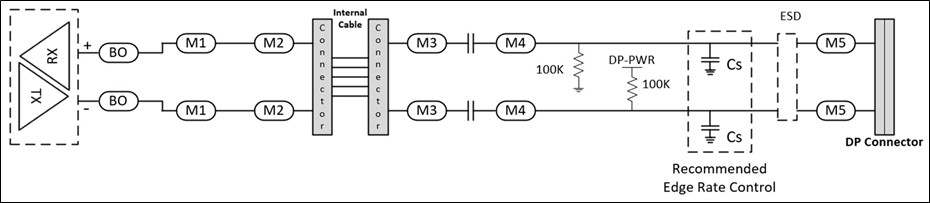capacitor: (460, 98, 480, 128), (463, 31, 480, 59)
dotted_rectangle: (8, 3, 80, 151), (685, 26, 757, 157), (772, 30, 800, 128)
ground: (698, 123, 721, 146), (702, 54, 718, 79), (574, 84, 587, 95)
oval: (97, 89, 140, 116), (176, 99, 218, 125), (252, 32, 295, 57), (253, 97, 295, 122), (815, 100, 858, 124), (100, 42, 140, 67), (818, 31, 855, 56), (177, 33, 219, 55), (407, 102, 449, 124), (405, 34, 447, 55), (497, 34, 537, 54), (496, 102, 538, 120)
rectangle: (875, 16, 900, 136), (368, 18, 389, 138), (313, 16, 333, 136)
resistor: (569, 49, 591, 83), (623, 75, 642, 104)
triangle: (15, 60, 70, 132), (16, 19, 72, 89)
